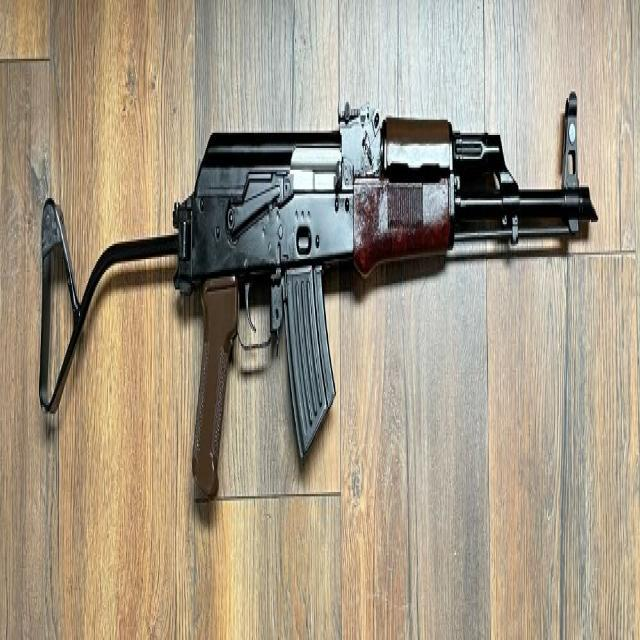weapon: (37, 81, 600, 508)
